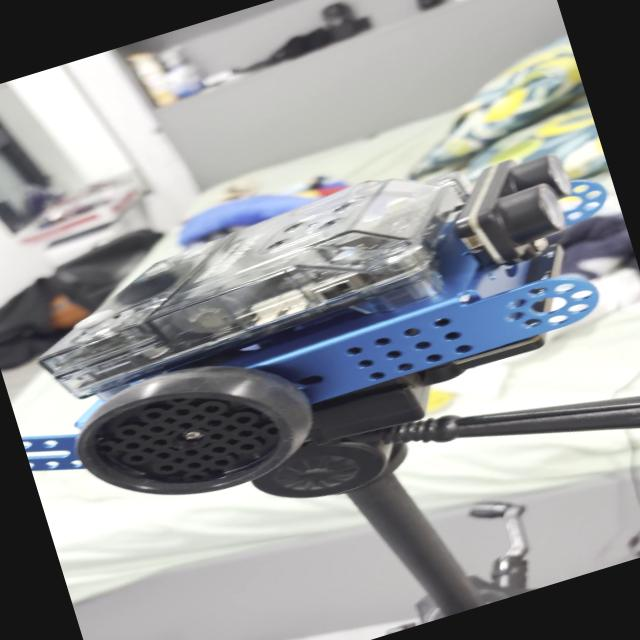mbot-detection: (0, 105, 640, 546)
